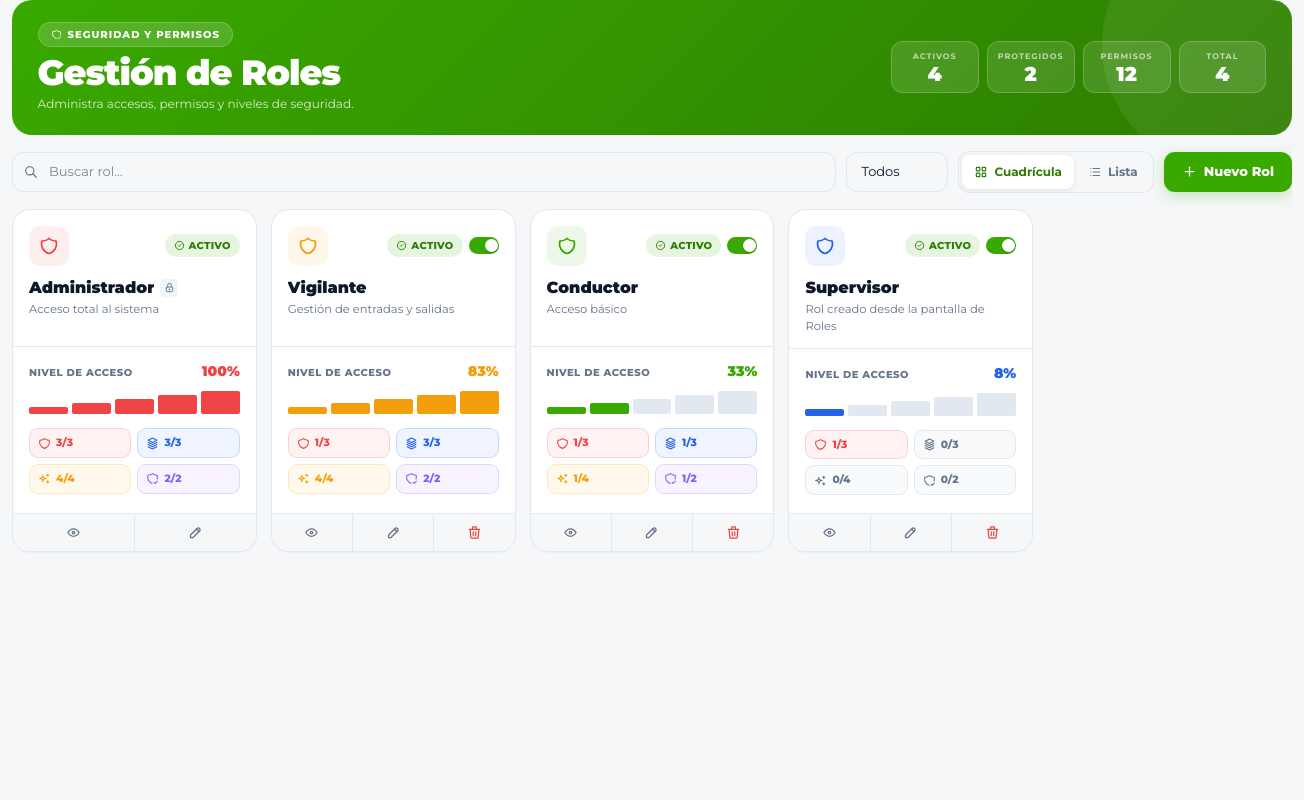
Roles › filtra la lista al escribir en el buscador
Expected: the heading "Administrador" is shown, [29,278,154,297]
Type "Vigilante" into the field named "Buscar roles".
click(424, 172); type("Vigilante")  # box [12,152,836,192]
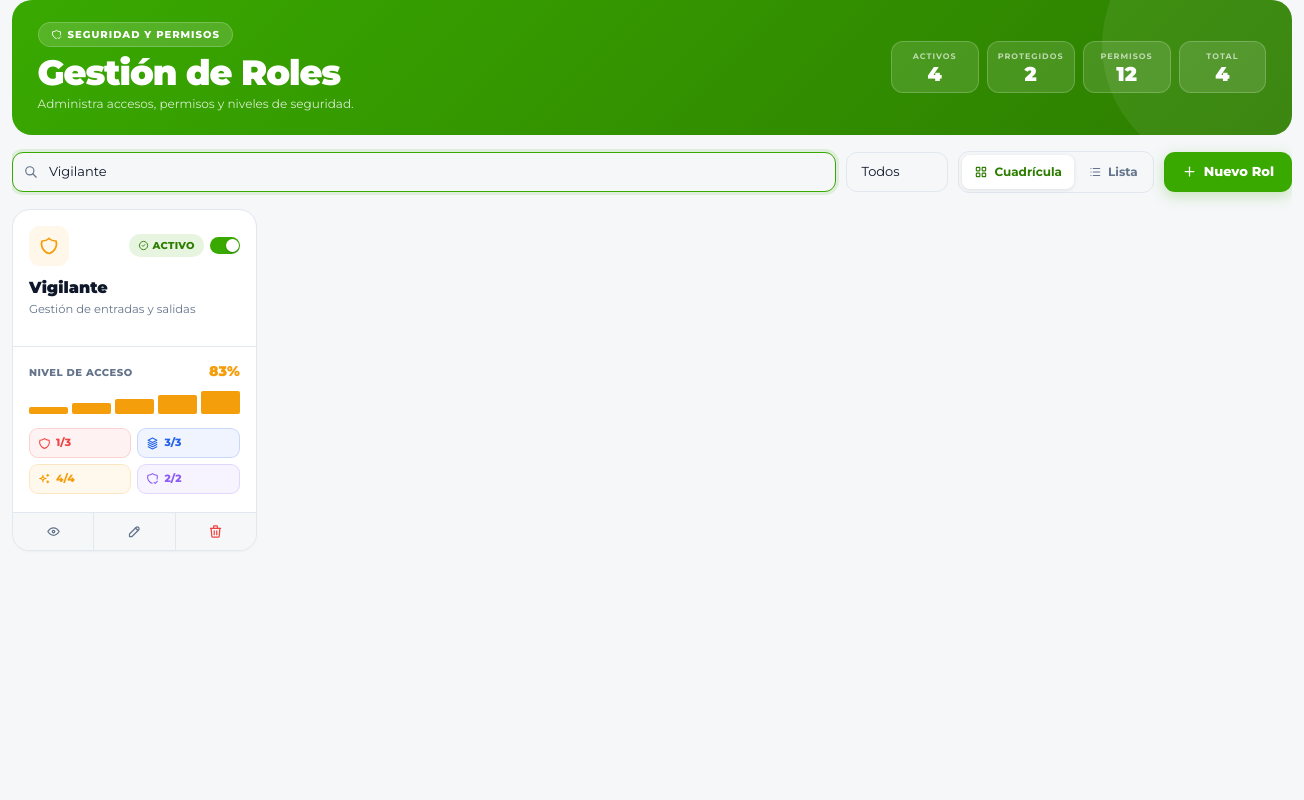
Expected: the heading "Vigilante" is shown, [29,278,108,297]
Expected: the heading "Conductor" is gone
